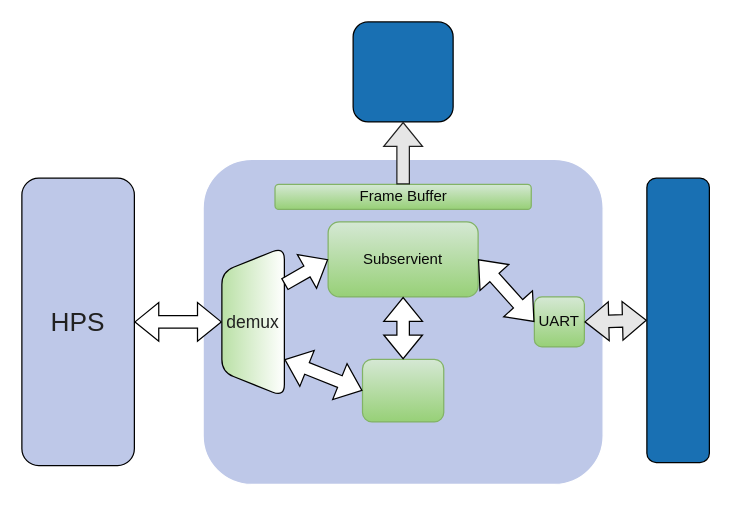
Image size: 731x506. Some labels were removed from this diagram. The centre of each missing label's shape, as x and y in pixels:
"Monitor" belongs at point 402,71.
"RFS CARD" belongs at point 677,319.
"Serv_con" belongs at point 402,390.
